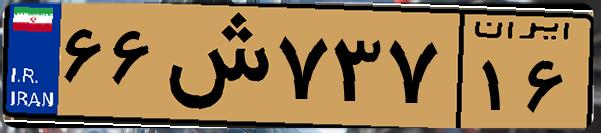1: (475, 38, 525, 113)
3: (330, 28, 385, 110)
6: (57, 26, 110, 100), (525, 38, 570, 115), (110, 28, 158, 98)
7: (270, 28, 330, 110), (385, 28, 445, 110)
ش: (158, 12, 270, 120)
